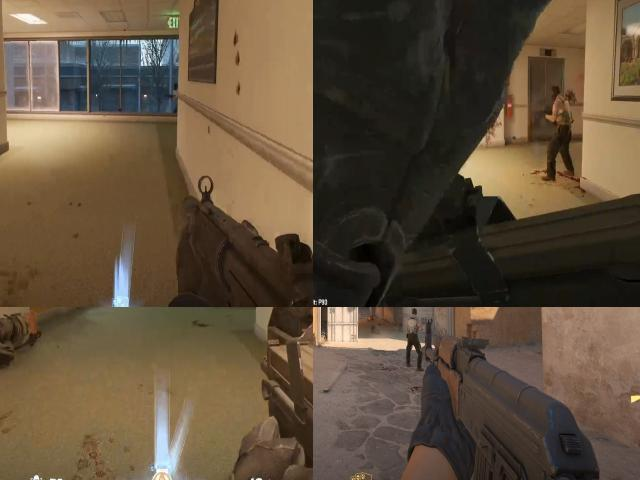Dead: (0, 307, 51, 365), (371, 324, 379, 333), (367, 315, 375, 322)
T: (545, 80, 576, 146), (406, 307, 421, 369), (550, 83, 566, 108)
T-Head: (412, 308, 417, 317)
